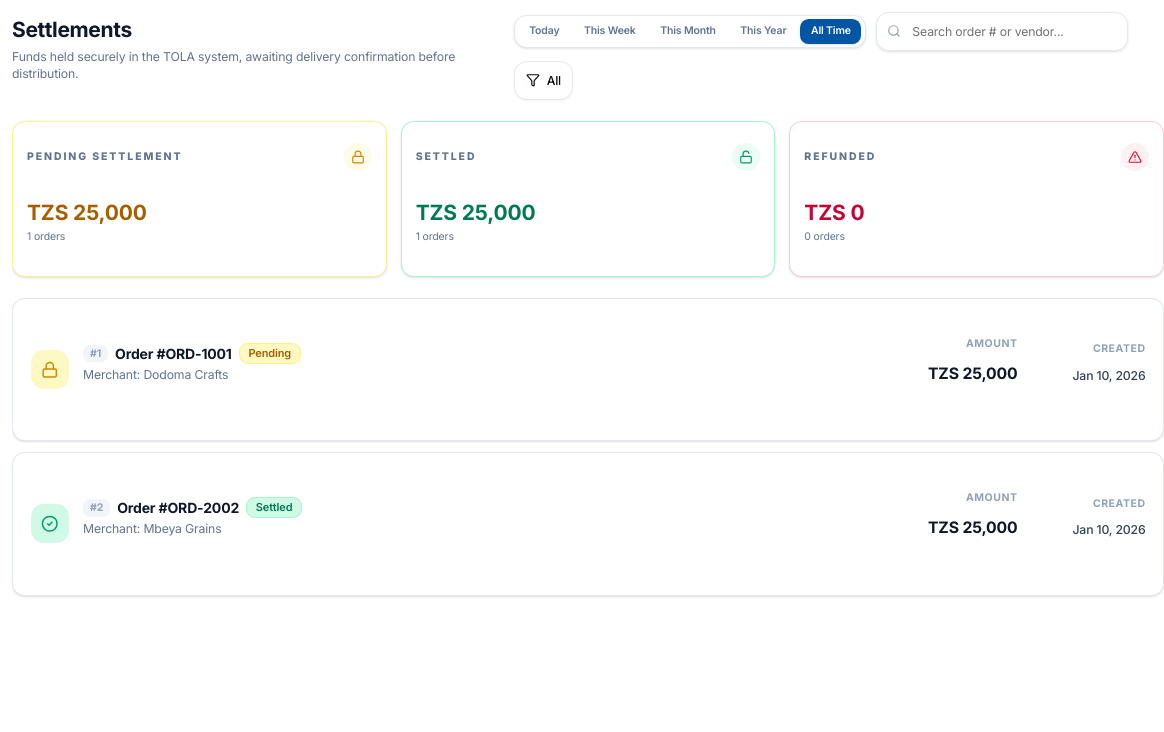
Test: FinanceSettlementsTab › search and status filter › filters by status via the dropdown
Click the button "All": (543, 80) [514,61,572,100]
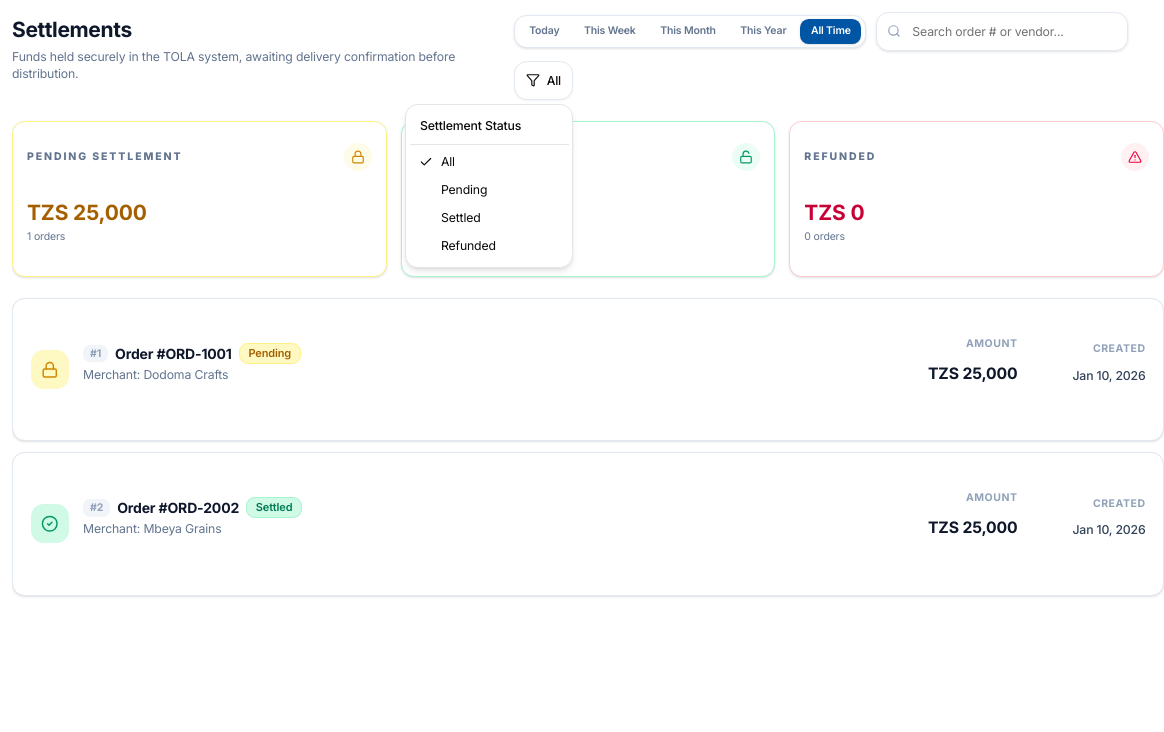
Click the menu item "Settled": (461, 218) [441,210,481,225]
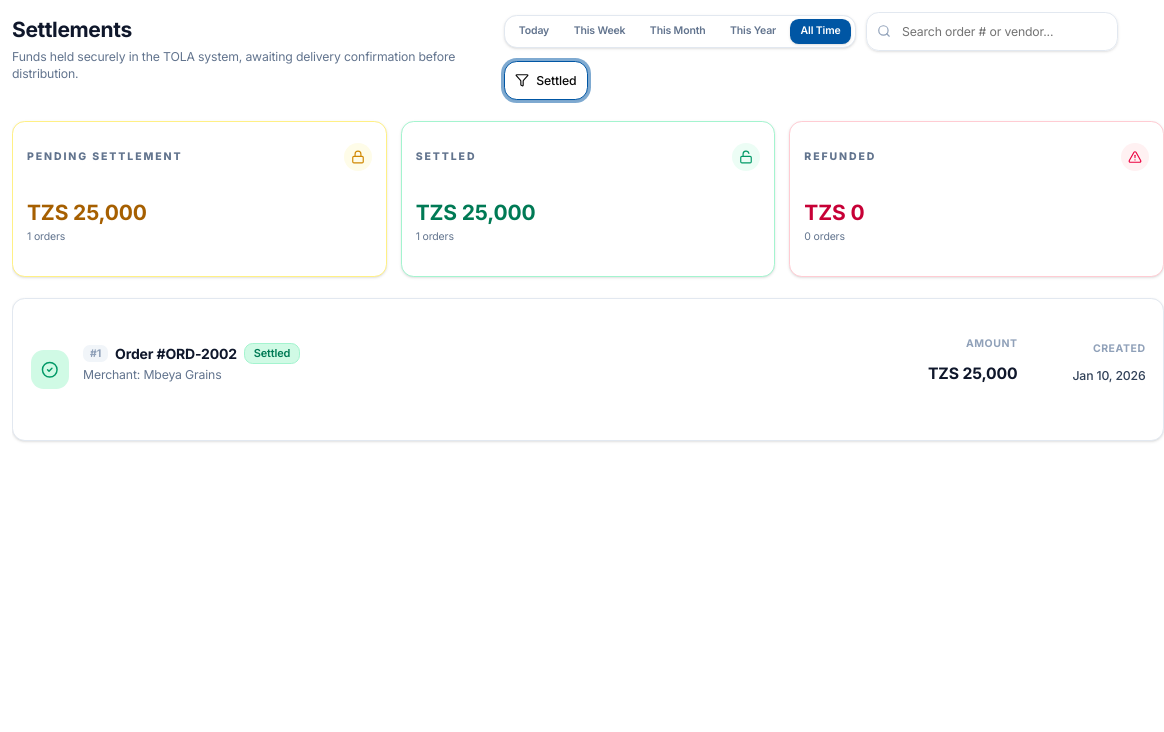
Expected: the text "Order #ORD-2002" is shown, [115,344,237,363]
Result: the text "Order #ORD-1001" is gone
